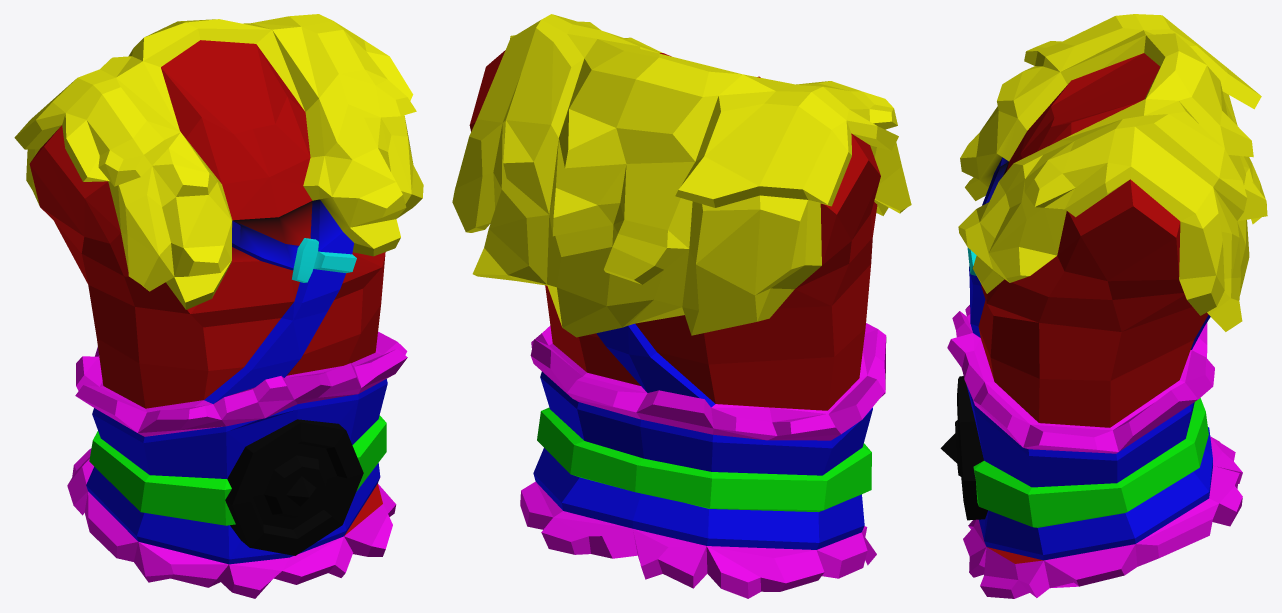
File: Chr_Torso_Male_Static_02.fbx
The picture shows the model from 3 angles, left to right: view 1: azimuth 30°, elevation 25°; view 2: azimuth 150°, elevation 25°; view 3: azimuth 270°, elevation 25°; orthographic projection. The views are drawn at different scales.
Visible parts, largest first — view 1: Chr_Torso_Male_02; view 2: Chr_Torso_Male_02; view 3: Chr_Torso_Male_02.
Part boxes in pixels (x1=…): Chr_Torso_Male_02: x1=14, y1=14, x2=423, y2=598; Chr_Torso_Male_02: x1=452, y1=14, x2=911, y2=598; Chr_Torso_Male_02: x1=940, y1=14, x2=1267, y2=598.
Bounding box in the file's own units: 49.44 × 69.05 × 40.81.
